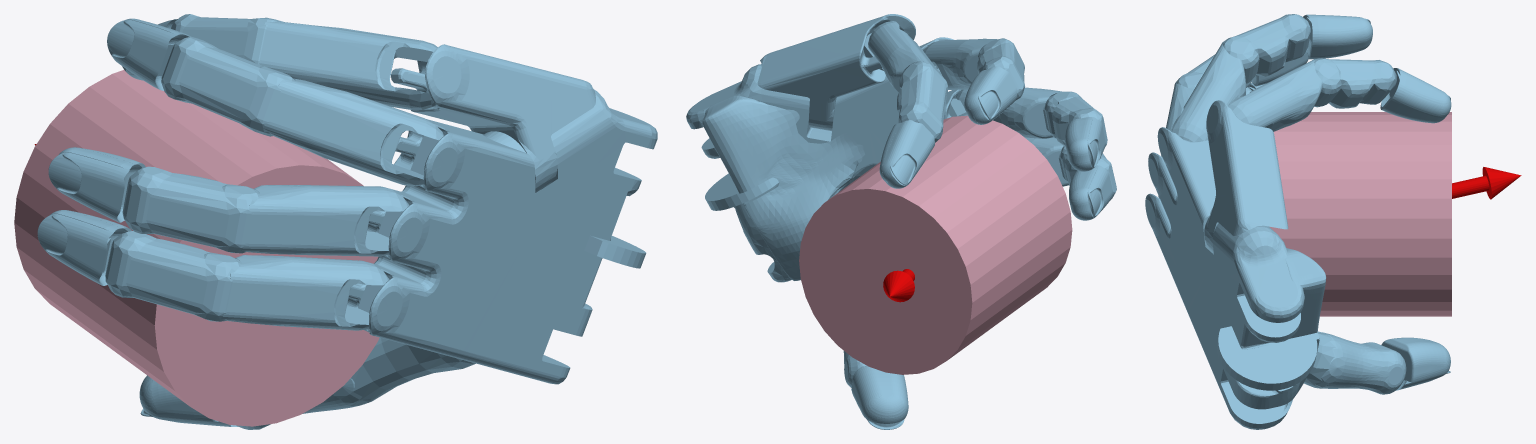
3 renders of one model, left to right at view 1: azimuth 30°, elevation 25°; view 2: azimuth 150°, elevation 25°; view 3: azimuth 270°, elevation 25°, orthographic. The views are drawn at different scales.
Parts seen in each view (by area): view 1: world, cylinder_medium.stl; view 2: world, cylinder_medium.stl; view 3: world, cylinder_medium.stl.
Boxes of the visible parts, bbox=[...] form: world: bbox=[34, 14, 657, 429]; cylinder_medium.stl: bbox=[14, 70, 379, 426]; world: bbox=[686, 14, 1116, 429]; cylinder_medium.stl: bbox=[799, 115, 1072, 374]; world: bbox=[1145, 14, 1521, 429]; cylinder_medium.stl: bbox=[1269, 112, 1451, 316].
Size of the model in its own units: 0.1944 by 0.1447 by 0.1471.
